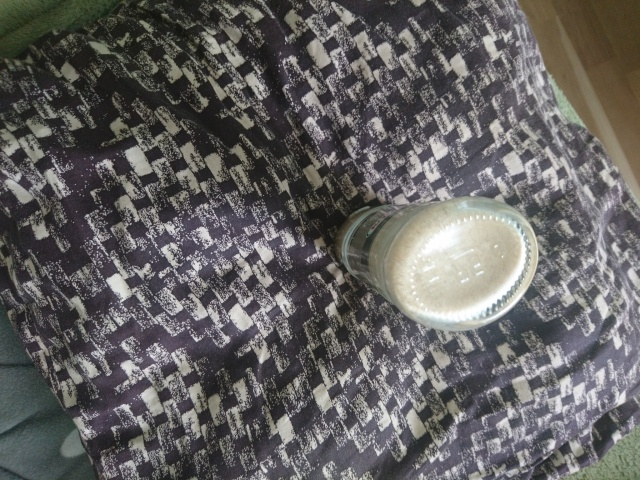Kotanyi Garlic Granules 70g: (328, 193, 542, 334)
